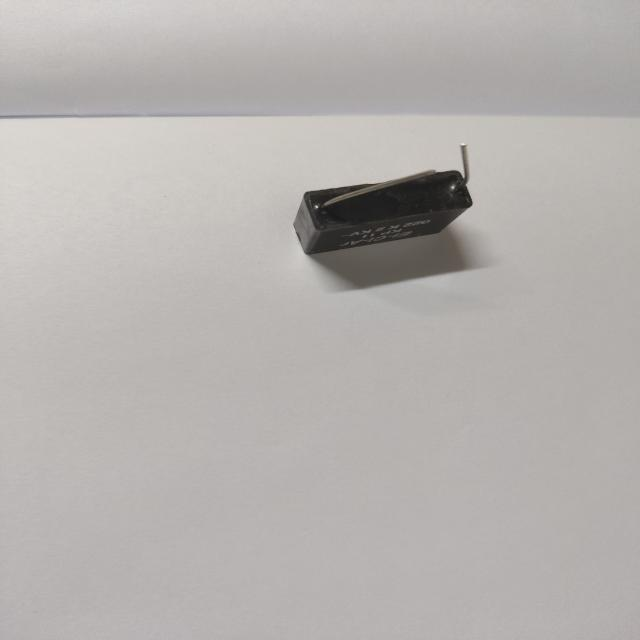capacitor: (284, 136, 483, 267)
